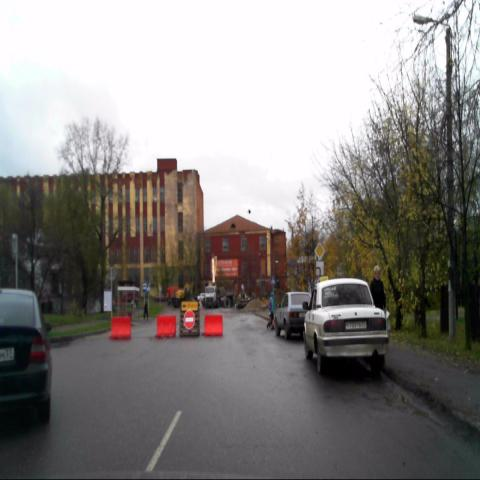3_1: (184, 308, 196, 329)
